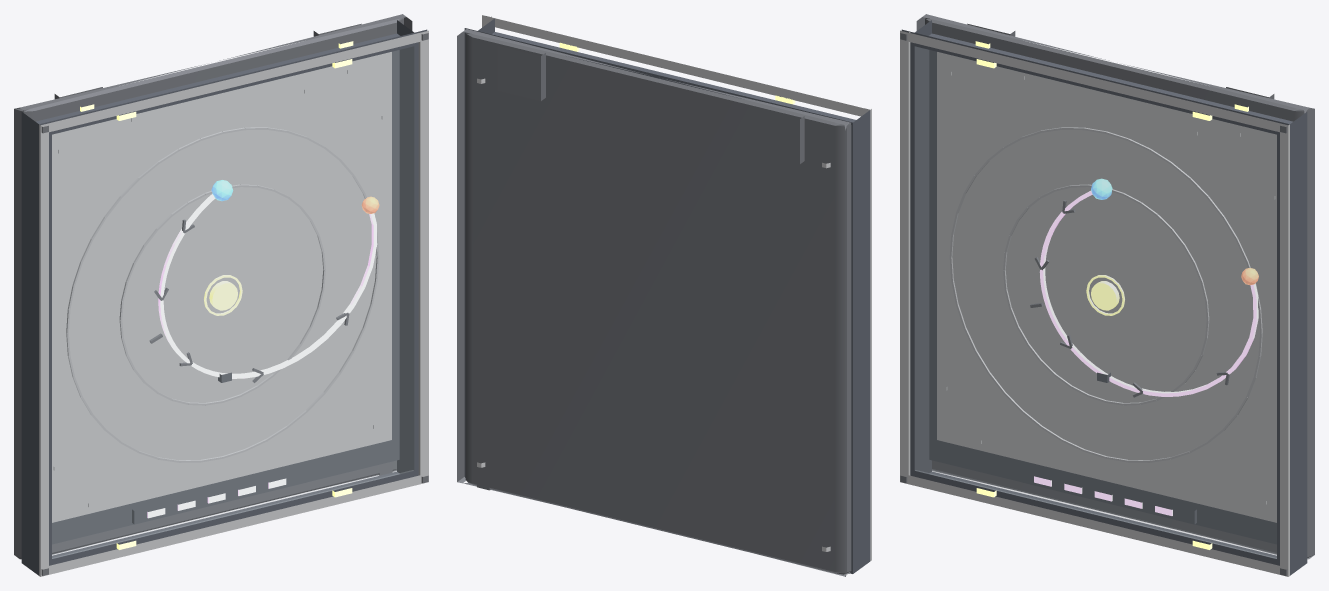
File: cycler_route_lightbox.glb
3 renders of one model, left to right at view 1: azimuth 30°, elevation 25°; view 2: azimuth 150°, elevation 25°; view 3: azimuth 330°, elevation 25°, orthographic.
Parts seen in each view (by area): view 1: Front_Glass, Backlight_Diffuser, Box_Frame, Bezel_Trim, Back_Plate, Box_Back, Mars_Orbit, Transfer_Arc, Earth_Orbit, Route_Label, Sun_Disc, Label_Glyphs; view 2: Back_Plate, Box_Frame, Bezel_Trim, Rail_Hooks; view 3: Front_Glass, Backlight_Diffuser, Box_Frame, Bezel_Trim, Back_Plate, Box_Back, Mars_Orbit, Transfer_Arc, Earth_Orbit, Route_Label, Sun_Disc, Label_Glyphs.
Boxes of the visible parts, x1=… form: Front_Glass: x1=52, y1=47, x2=413, y2=558; Backlight_Diffuser: x1=52, y1=52, x2=391, y2=522; Box_Frame: x1=21, y1=20, x2=427, y2=575; Bezel_Trim: x1=39, y1=30, x2=428, y2=576; Back_Plate: x1=14, y1=14, x2=412, y2=559; Box_Back: x1=52, y1=50, x2=399, y2=544; Mars_Orbit: x1=66, y1=127, x2=379, y2=462; Transfer_Arc: x1=158, y1=194, x2=377, y2=378; Earth_Orbit: x1=119, y1=184, x2=325, y2=405; Route_Label: x1=132, y1=469, x2=306, y2=524; Sun_Disc: x1=209, y1=281, x2=237, y2=310; Label_Glyphs: x1=147, y1=478, x2=286, y2=518; Back_Plate: x1=457, y1=29, x2=851, y2=576; Box_Frame: x1=464, y1=18, x2=870, y2=573; Bezel_Trim: x1=482, y1=15, x2=871, y2=560; Rail_Hooks: x1=497, y1=46, x2=804, y2=164; Front_Glass: x1=915, y1=47, x2=1276, y2=558; Backlight_Diffuser: x1=937, y1=52, x2=1276, y2=522; Box_Frame: x1=901, y1=20, x2=1307, y2=575; Bezel_Trim: x1=900, y1=30, x2=1289, y2=576; Back_Plate: x1=916, y1=14, x2=1314, y2=559; Box_Back: x1=929, y1=50, x2=1276, y2=544; Mars_Orbit: x1=949, y1=127, x2=1262, y2=462; Transfer_Arc: x1=1039, y1=190, x2=1258, y2=396; Earth_Orbit: x1=1003, y1=184, x2=1209, y2=405; Route_Label: x1=1022, y1=469, x2=1196, y2=524; Sun_Disc: x1=1091, y1=281, x2=1119, y2=310; Label_Glyphs: x1=1034, y1=476, x2=1172, y2=515.
Bounding box in the file's own units: 0.9 × 1 × 0.12.
